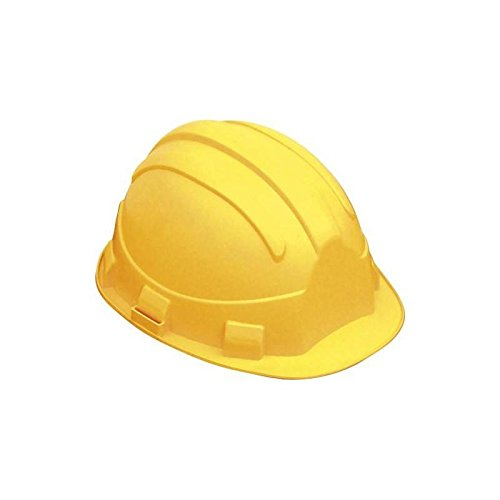casco: (91, 115, 407, 383)
